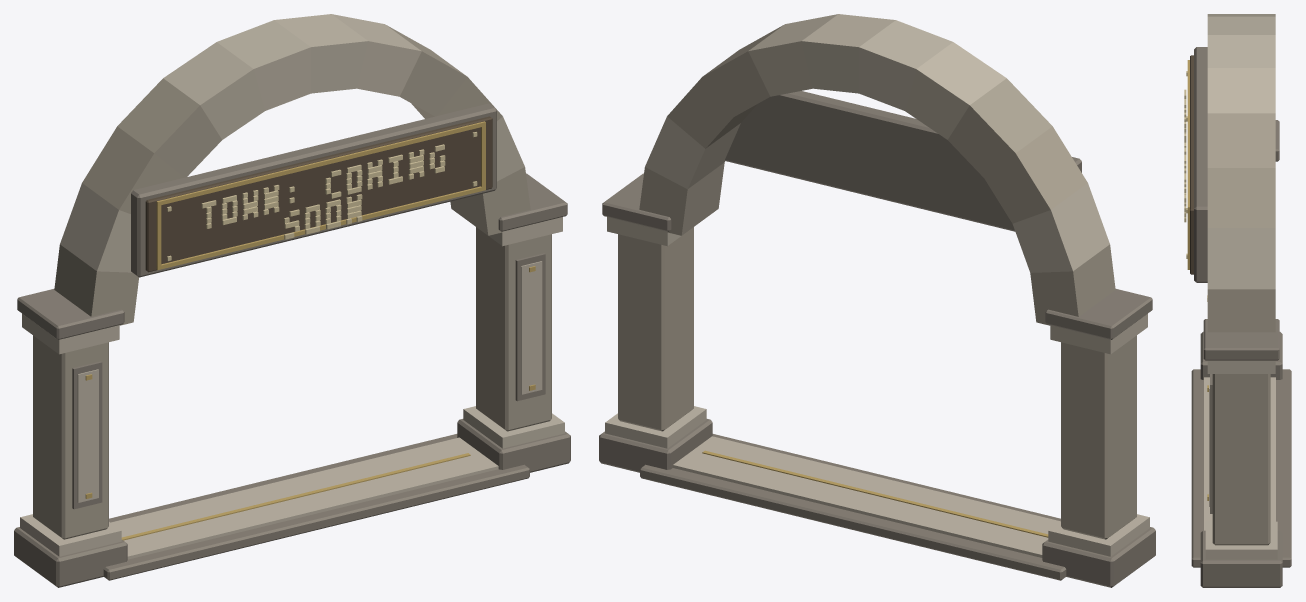
File: 0-20261016-1900-ev062-r11-exterior-townarchway.fbx
3 renders of one model, left to right at view 1: azimuth 30°, elevation 25°; view 2: azimuth 150°, elevation 25°; view 3: azimuth 270°, elevation 25°, orthographic. The views are drawn at different scales.
Parts seen in each view (by area): view 1: SW_Exterior_TownArchway; view 2: SW_Exterior_TownArchway; view 3: SW_Exterior_TownArchway.
Part boxes in pixels (bbox=[...]): SW_Exterior_TownArchway: bbox=[14, 14, 570, 587]; SW_Exterior_TownArchway: bbox=[599, 14, 1155, 587]; SW_Exterior_TownArchway: bbox=[1184, 14, 1291, 587].
Size of the model in its own units: 546 by 483 by 107.
